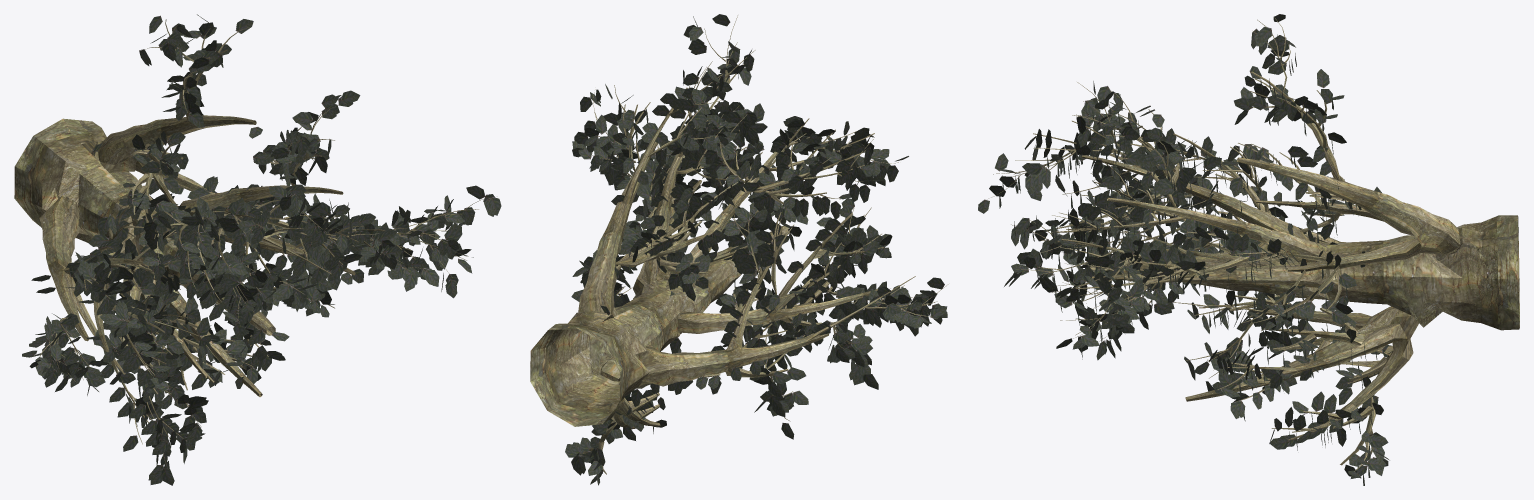
File: tree11.obj
3 renders of one model, left to right at view 1: azimuth 30°, elevation 25°; view 2: azimuth 150°, elevation 25°; view 3: azimuth 270°, elevation 25°, orthographic. The views are drawn at different scales.
Visible parts, largest first — view 1: objt10002, objt10544, objt11320, objt11576, objt10003, objt11041; view 2: objt10002, objt10544, objt11320, objt10788, objt11576, objt10272, objt10550, objt11325, objt11406, objt10795; view 3: objt10002, objt11320, objt11576, objt11041, objt10003, objt10272, objt10009, objt11487, objt10099, objt11325, objt10192, objt11406 (+1 smaller).
Boxes of the visible parts, x1,y1,x2,y2 form: objt10002: [14, 118, 275, 335]; objt10544: [39, 195, 89, 341]; objt11320: [97, 115, 256, 172]; objt11576: [180, 185, 343, 210]; objt10003: [134, 264, 262, 396]; objt11041: [218, 230, 355, 275]; objt10002: [530, 226, 789, 426]; objt10544: [641, 333, 829, 386]; objt11320: [578, 141, 657, 316]; objt10788: [677, 289, 877, 333]; objt11576: [644, 153, 683, 284]; objt10272: [666, 138, 790, 286]; objt10550: [727, 265, 770, 350]; objt11325: [615, 230, 713, 267]; objt11406: [622, 87, 687, 203]; objt10795: [762, 213, 852, 313]; objt10002: [1085, 215, 1519, 330]; objt11320: [1236, 157, 1460, 254]; objt11576: [1107, 197, 1326, 262]; objt11041: [1092, 261, 1326, 287]; objt10003: [1185, 306, 1419, 401]; objt10272: [1081, 155, 1309, 240]; objt10009: [1282, 323, 1407, 374]; objt11487: [1286, 238, 1422, 271]; objt10099: [1327, 338, 1413, 422]; objt11325: [1256, 200, 1387, 222]; objt10192: [1248, 309, 1371, 329]; objt11406: [1250, 71, 1340, 180].
Size of the model in its own units: 145 by 138 by 159.
Materials: 2 (2 with a texture image).
